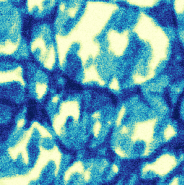hole_filled: (52, 6, 173, 92), (44, 88, 116, 152), (27, 18, 60, 77), (1, 57, 31, 111), (0, 10, 28, 56)
